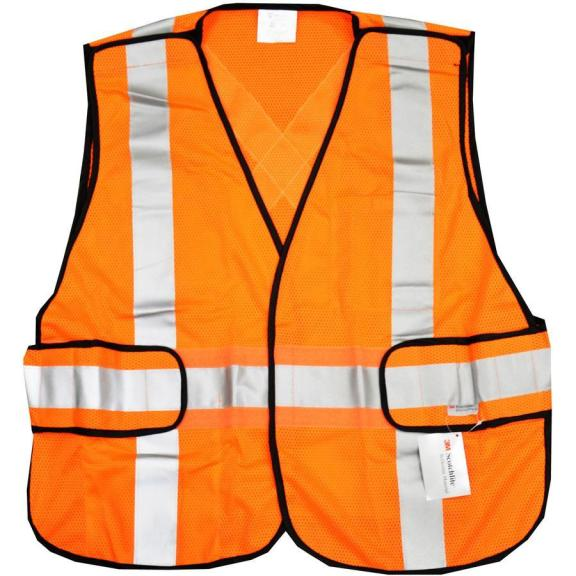safety_vest: (25, 0, 554, 572)
